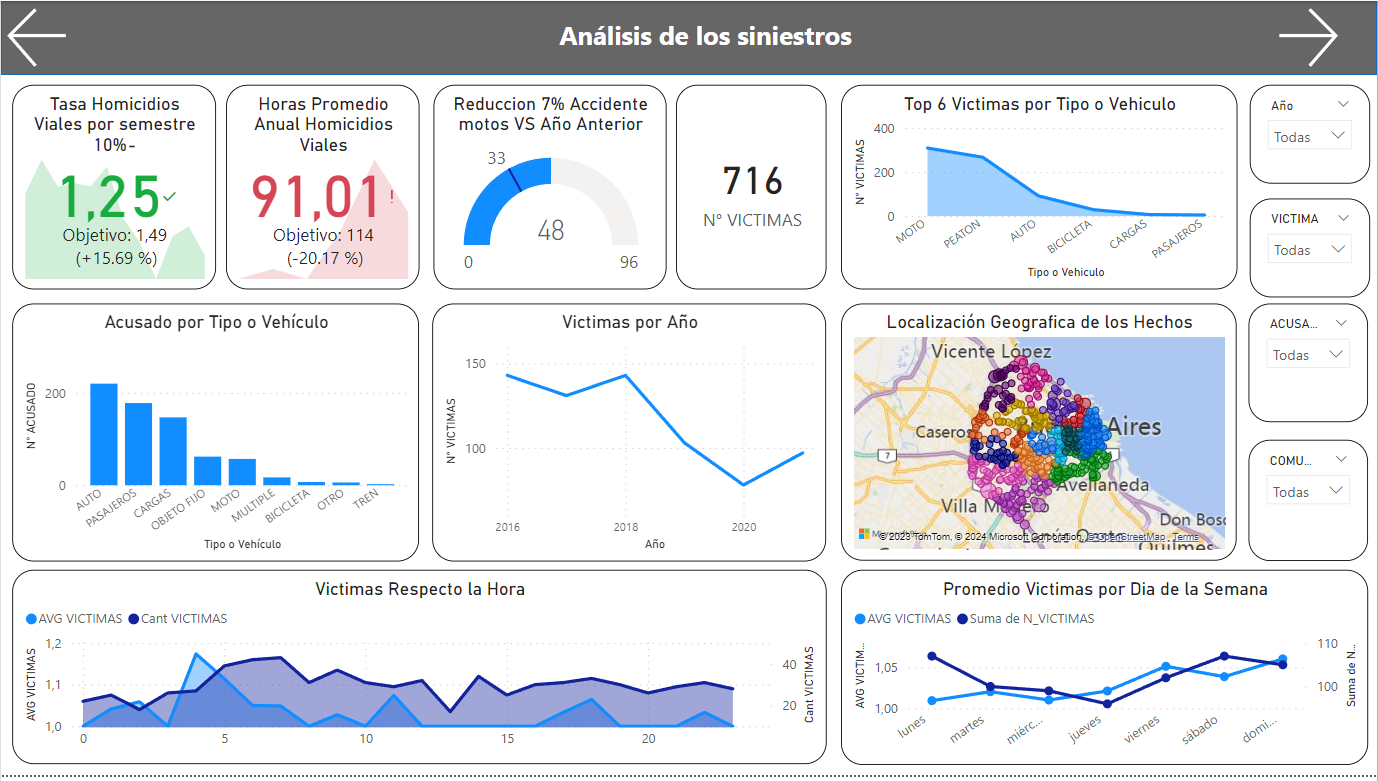

What the dashboard file says about the page in this screenshot:
{"tool":"powerbi","page":{"name":"Siniestros","canvas":[1280,720],"ordinal":1},"visuals":[{"type":"shape","box":[0,0,1280,68.8],"z":0},{"type":"map","title":"Localización Geografica de los Hechos","fields":{"Y":["homicidios_proc.LATITUD"],"X":["homicidios_proc.LONGITUD"],"Size":["Sum(homicidios_proc.N_VICTIMAS)"],"Series":["homicidios_proc.COMUNA"]},"box":[781.8,281.8,368.2,239.1],"z":1000},{"type":"lineChart","title":"Victimas por Año","fields":{"Y":["CountNonNull(homicidios_proc.N_VICTIMAS)"],"Category":["homicidios_proc.FECHA.Variación.Jerarquía de fechas.Año","homicidios_proc.FECHA.Variación.Jerarquía de fechas.Trimestre","homicidios_proc.FECHA.Variación.Jerarquía de fechas.Mes"]},"box":[401.6,281.7,366.6,239.9],"z":2000},{"type":"columnChart","title":"Acusado por Tipo o Vehículo","fields":{"Category":["homicidios_proc.ACUSADO"],"Y":["CountNonNull(homicidios_proc.ACUSADO)"]},"box":[10.8,281.7,378.7,239.9],"z":3000},{"type":"areaChart","title":"Top 6 Victimas por Tipo o Vehiculo","fields":{"Category":["homicidios_proc.VICTIMA"],"Y":["Sum(homicidios_proc.N_VICTIMAS)"]},"box":[781.1,77.8,368.9,190],"z":4000},{"type":"textbox","box":[392.5,11,531,42.5],"z":5000},{"type":"card","fields":{"Values":["Sum(homicidios_proc.N_VICTIMAS)"]},"box":[627.9,77.6,140.3,190.7],"z":6000},{"type":"slicer","fields":{"Values":["homicidios_proc.FECHA.Variación.Jerarquía de fechas.Año"]},"box":[1161.6,77.9,111.6,91.9],"z":7000},{"type":"lineChart","title":"Promedio Victimas por Dia de la Semana","fields":{"Category":["homicidios_proc.dia_sem_acc"],"Y":["Avg(homicidios_proc.N_VICTIMAS)"],"Y2":["Sum(homicidios_proc.N_VICTIMAS)1"]},"box":[781.6,529.6,490.5,181.9],"z":8000},{"type":"areaChart","title":"Victimas Respecto la Hora","fields":{"Y":["Avg(homicidios_proc.N_VICTIMAS)"],"Category":["homicidios_proc.HH"],"Y2":["Sum(homicidios_proc.N_VICTIMAS)1"]},"box":[10.8,529.6,757.4,180.6],"z":9000},{"type":"slicer","fields":{"Values":["homicidios_proc.VICTIMA"]},"box":[1161.8,183.6,111.8,91.8],"z":10000},{"type":"slicer","fields":{"Values":["homicidios_proc.COMUNA"]},"box":[1160.9,408.2,110.9,112.7],"z":11000},{"type":"slicer","fields":{"Values":["homicidios_proc.ACUSADO"]},"box":[1160.9,281.8,110.9,110],"z":12000},{"type":"kpi","title":"Tasa Homicidios Viales por semestre 10%-","fields":{"TrendLine":["poblacion_semestral.Semestre"],"Goal":["homicidios_proc.ValorObjetivo"],"Indicator":["homicidios_proc.TasaHomicidiosViales"]},"box":[10.9,77.6,189.3,190.7],"z":13000},{"type":"gauge","title":"Reduccion 7% Accidente motos VS Año Anterior","fields":{"TargetValue":["homicidios_proc.AccidentesMotoAnioAnterior"],"Y":["homicidios_proc.AccidentesMoto"]},"box":[401.8,77.6,216.6,190.7],"z":14000},{"type":"kpi","title":"Horas Promedio Anual Homicidios Viales ","fields":{"Indicator":["homicidios_proc.AverageTimeBetweenAccidents"],"TrendLine":["homicidios_proc.FECHA.Variación.Jerarquía de fechas.Año"],"Goal":["homicidios_proc.kpi"]},"box":[209.7,77.6,179.8,190.7],"z":15000},{"type":"actionButton","box":[0,0,99.4,68.1],"z":16000},{"type":"actionButton","box":[1180.9,0,99.4,68.1],"z":17000}]}

Visuals, with their boxes in screenshot pixels (x1, y1, x2, y2), scaled from the page's 1280x720 canvas onto the 1378x781 screenshot:
shape: left=0, top=0, right=1377, bottom=75
"Localización Geografica de los Hechos" map: left=842, top=306, right=1238, bottom=565
"Victimas por Año" lineChart: left=432, top=306, right=827, bottom=566
"Acusado por Tipo o Vehículo" columnChart: left=12, top=306, right=419, bottom=566
"Top 6 Victimas por Tipo o Vehiculo" areaChart: left=841, top=84, right=1238, bottom=290
textbox: left=423, top=12, right=994, bottom=58
card - Sum(homicidios_proc.N_VICTIMAS): left=676, top=84, right=827, bottom=291
slicer - homicidios_proc.FECHA.Variación.Jerarquía de fechas.Año: left=1251, top=84, right=1371, bottom=184
"Promedio Victimas por Dia de la Semana" lineChart: left=841, top=574, right=1369, bottom=772
"Victimas Respecto la Hora" areaChart: left=12, top=574, right=827, bottom=770
slicer - homicidios_proc.VICTIMA: left=1251, top=199, right=1371, bottom=299
slicer - homicidios_proc.COMUNA: left=1250, top=443, right=1369, bottom=565
slicer - homicidios_proc.ACUSADO: left=1250, top=306, right=1369, bottom=425
"Tasa Homicidios Viales por semestre 10%-" kpi: left=12, top=84, right=216, bottom=291
"Reduccion 7% Accidente motos VS Año Anterior" gauge: left=433, top=84, right=666, bottom=291
"Horas Promedio Anual Homicidios Viales " kpi: left=226, top=84, right=419, bottom=291
actionButton: left=0, top=0, right=107, bottom=74
actionButton: left=1271, top=0, right=1377, bottom=74
